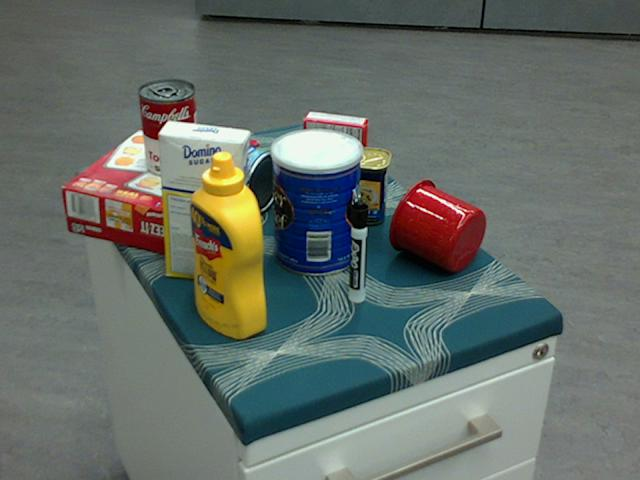cracker_box: (61, 119, 257, 260)
gelatin_box: (303, 112, 368, 172)
large_marker: (350, 200, 367, 303)
master_chef_can: (270, 128, 362, 276)
mug: (388, 178, 486, 272)
mustard_bottle: (191, 151, 265, 339)
potted_meat_can: (307, 144, 390, 223)
sugar_box: (157, 120, 249, 285)
tomato_soup_can: (138, 79, 199, 178)
tuna_fish_can: (222, 144, 280, 214)
